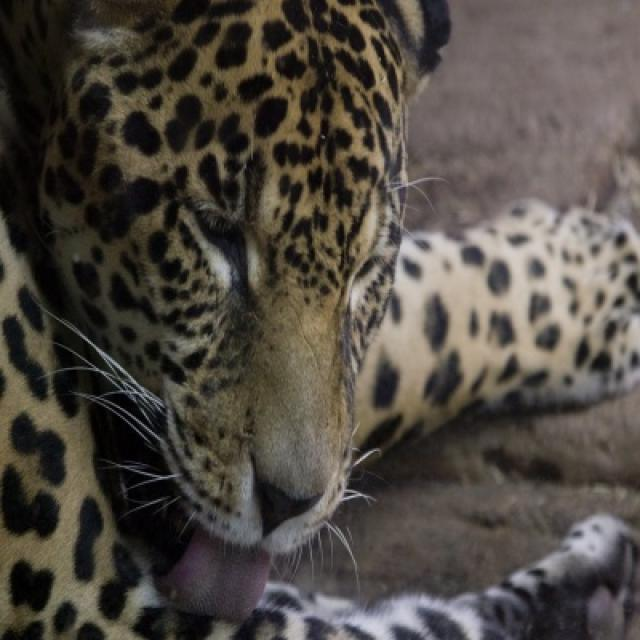Jaguar: (0, 0, 453, 638)
